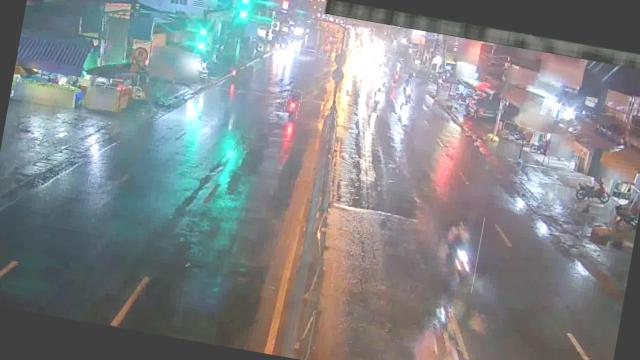Bike: (431, 209, 485, 293), (561, 176, 607, 206), (501, 122, 535, 144), (284, 88, 302, 120), (400, 78, 417, 106), (366, 86, 384, 111)
